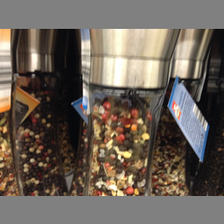spices: (76, 29, 178, 196), (9, 29, 80, 196)
